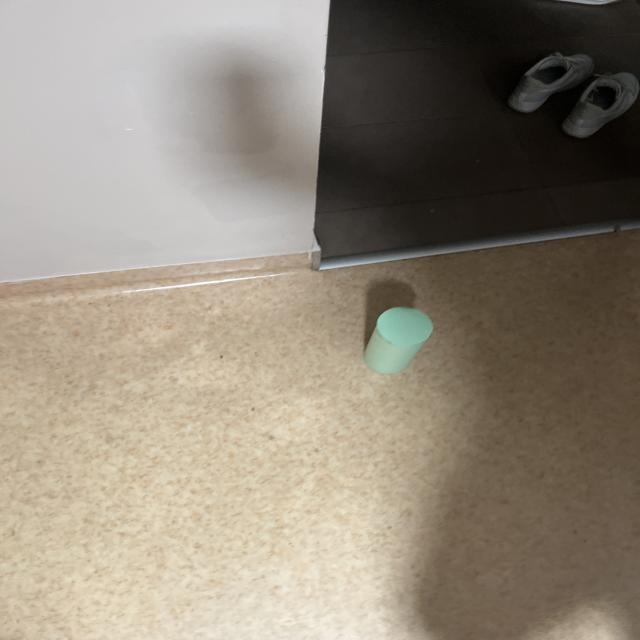meta: (364, 307, 433, 373)
